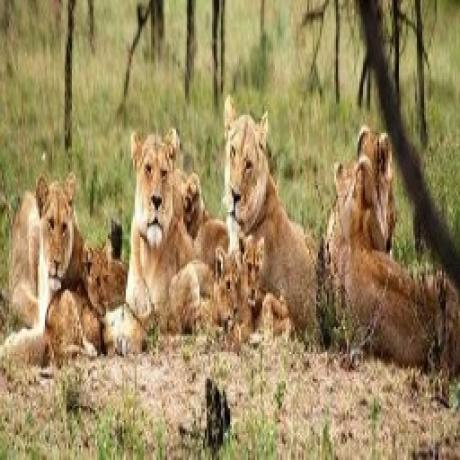Lion: (324, 128, 460, 360), (220, 96, 333, 329), (119, 123, 219, 330), (0, 170, 90, 359), (36, 238, 115, 360), (159, 243, 242, 337), (235, 238, 302, 340)
